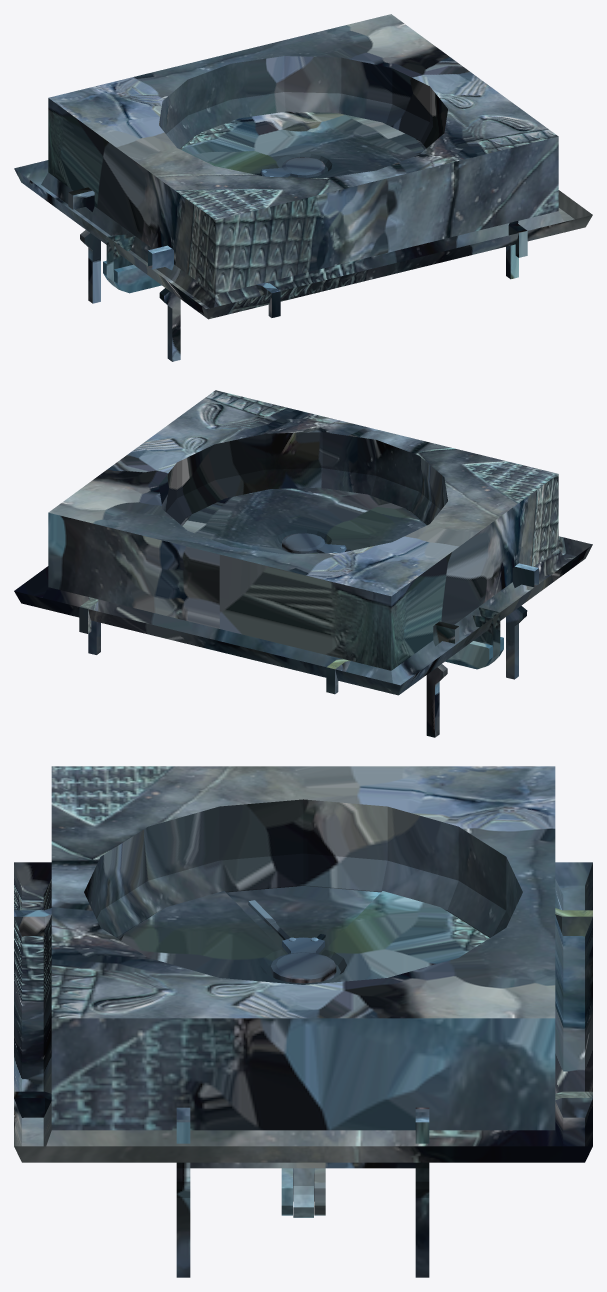
The model's file is futuristic_room_2.obj.
3 renders of one model, top to bottom at view 1: azimuth 30°, elevation 25°; view 2: azimuth 150°, elevation 25°; view 3: azimuth 270°, elevation 25°, orthographic. The views are drawn at different scales.
Size of the model in its own units: 0.8594 by 0.3645 by 0.7409.
